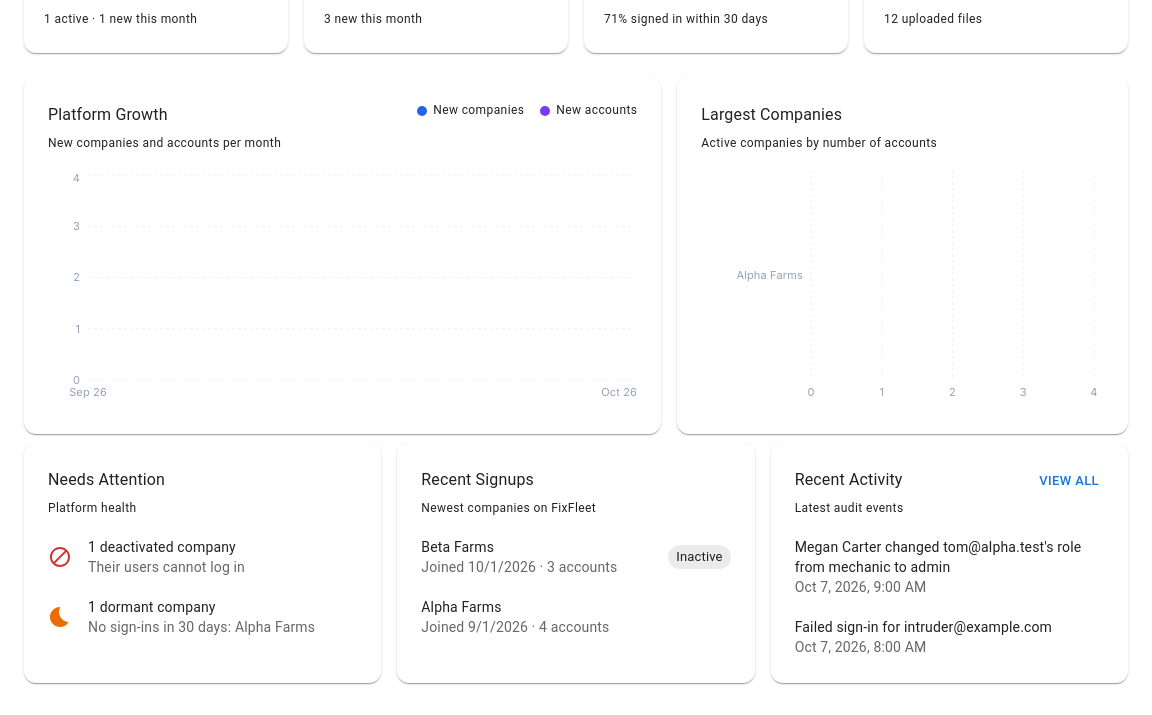
Test case: SuperAdminDashboard › shows platform health issues and recent audit activity
(page scrolled)
Check: the text "1 deactivated company" is shown, box [88,539,236,555]
Check: the text "No sign-ins in 30 days: Alpha Farms" is shown, box [88,619,315,635]
What coordinates should you click on to do the following:
click the button "View all"
I would click on:
 (1069, 481)
Its box is [1034,466,1104,497].
(page scrolled)
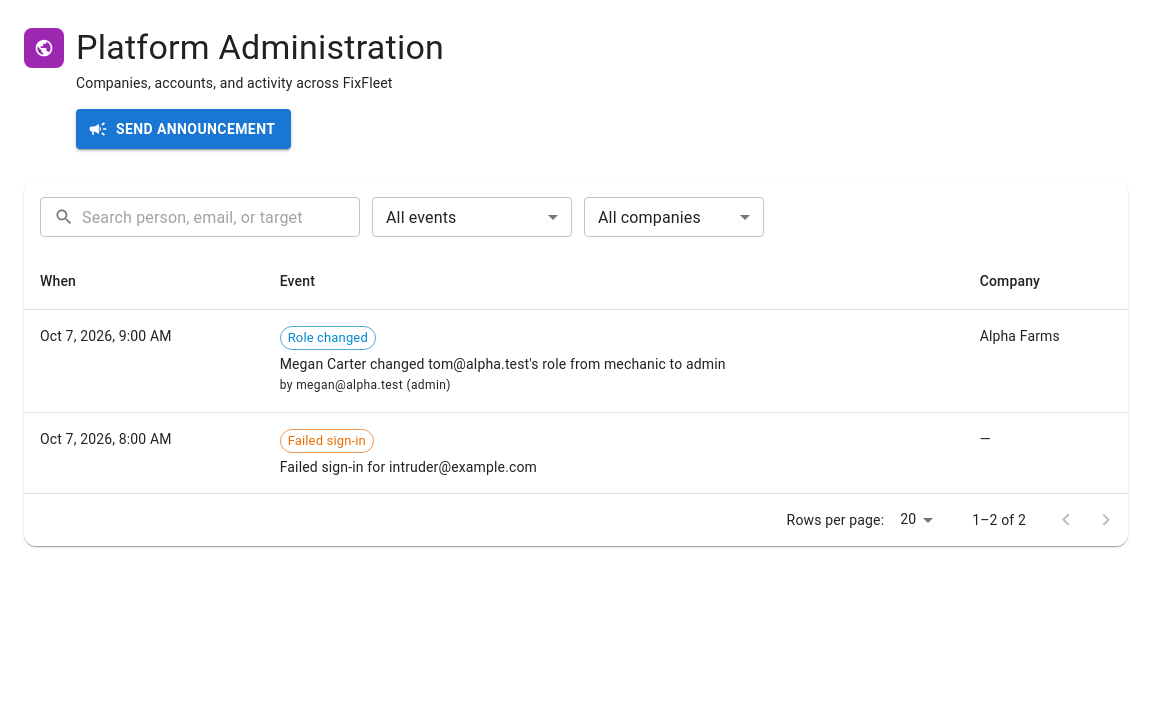
Check: the dropdown named "Filter by event" is shown, box [386,208,456,226]
